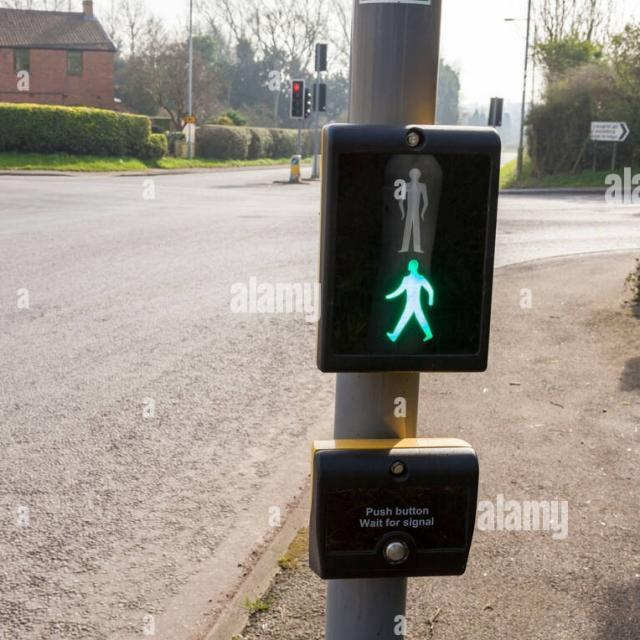geen-crossing: (379, 254, 447, 347)
